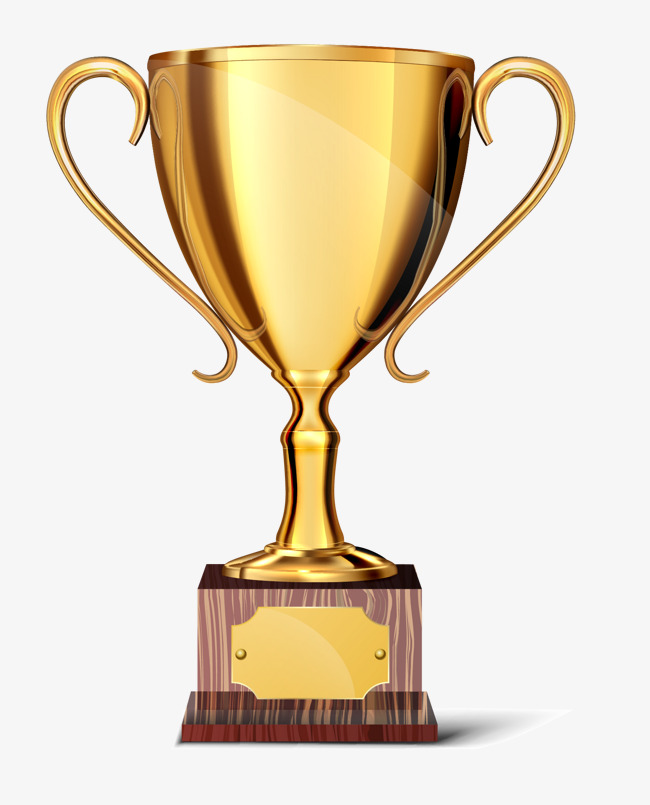trophy: (44, 40, 582, 759)
